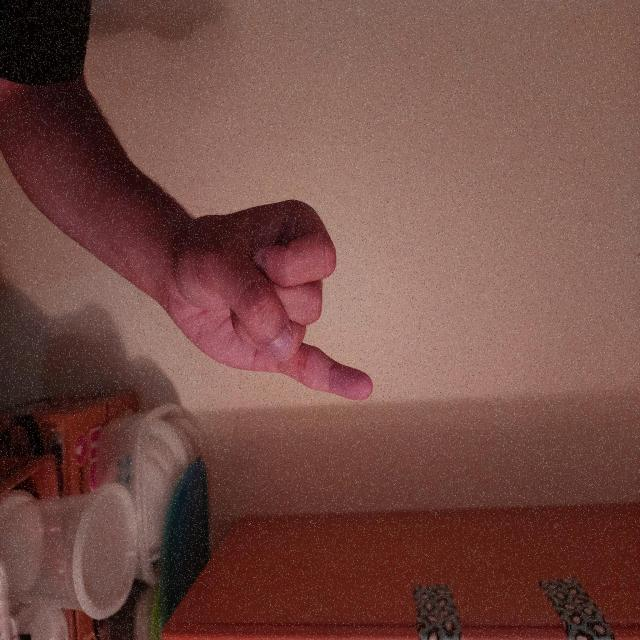I: (306, 346, 468, 632)
